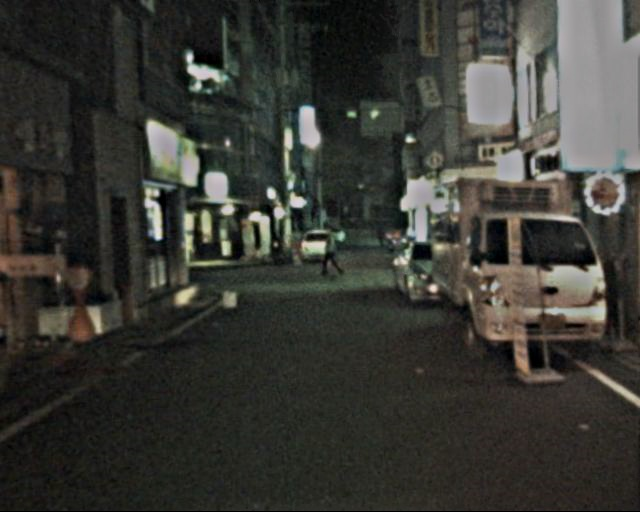person: (315, 225, 344, 282)
